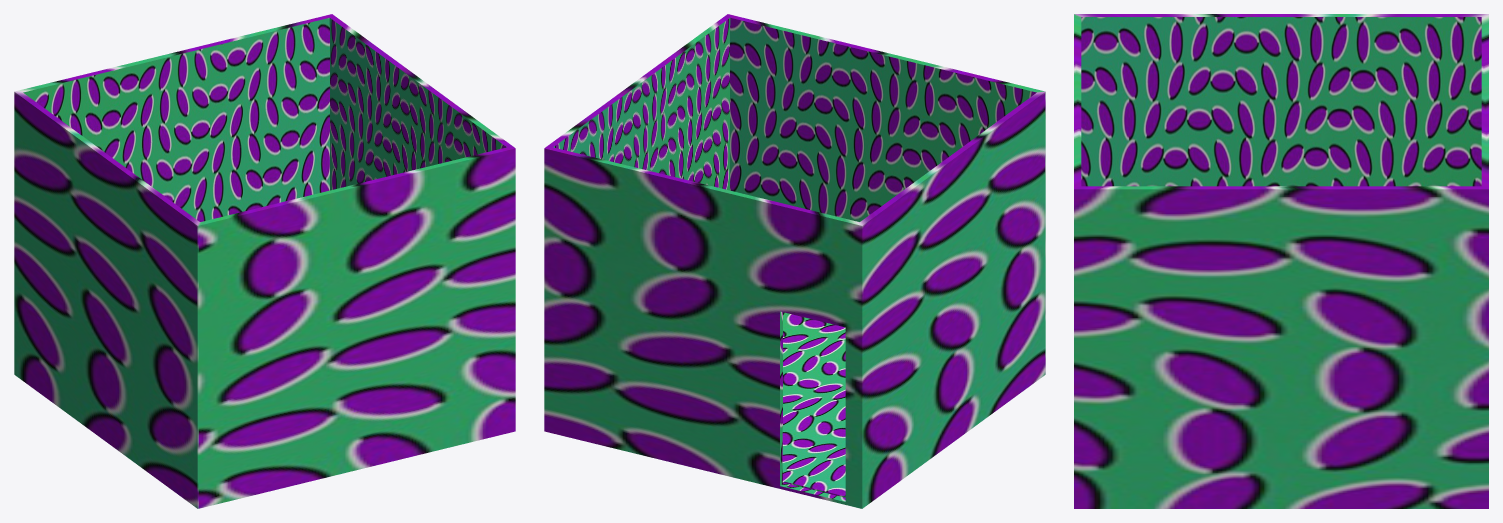
The model's file is salle_4.glb.
3 renders of one model, left to right at view 1: azimuth 30°, elevation 25°; view 2: azimuth 150°, elevation 25°; view 3: azimuth 270°, elevation 25°, orthographic. The views are drawn at different scales.
Parts seen in each view (by area): view 1: Cube; view 2: Cube; view 3: Cube.
Boxes of the visible parts, x1,y1,x2,y2 form: Cube: (14,14,515,508); Cube: (544,14,1045,508); Cube: (1074,14,1488,508).
Size of the model in its own units: 9.69 by 8.25 by 9.69.
2 materials, 2 textured.
